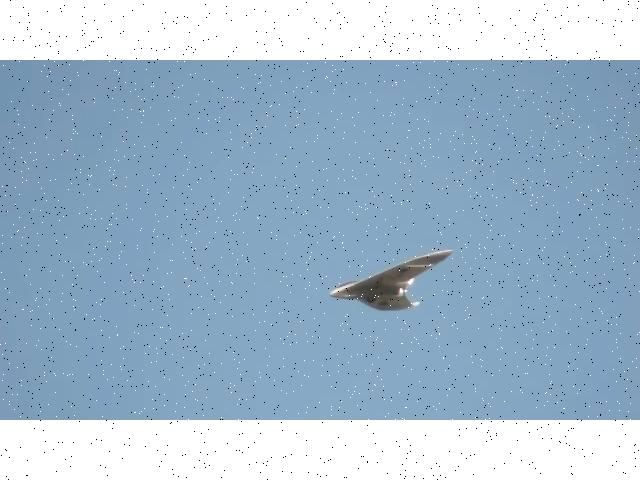Anti-Drone: (330, 250, 450, 310)
